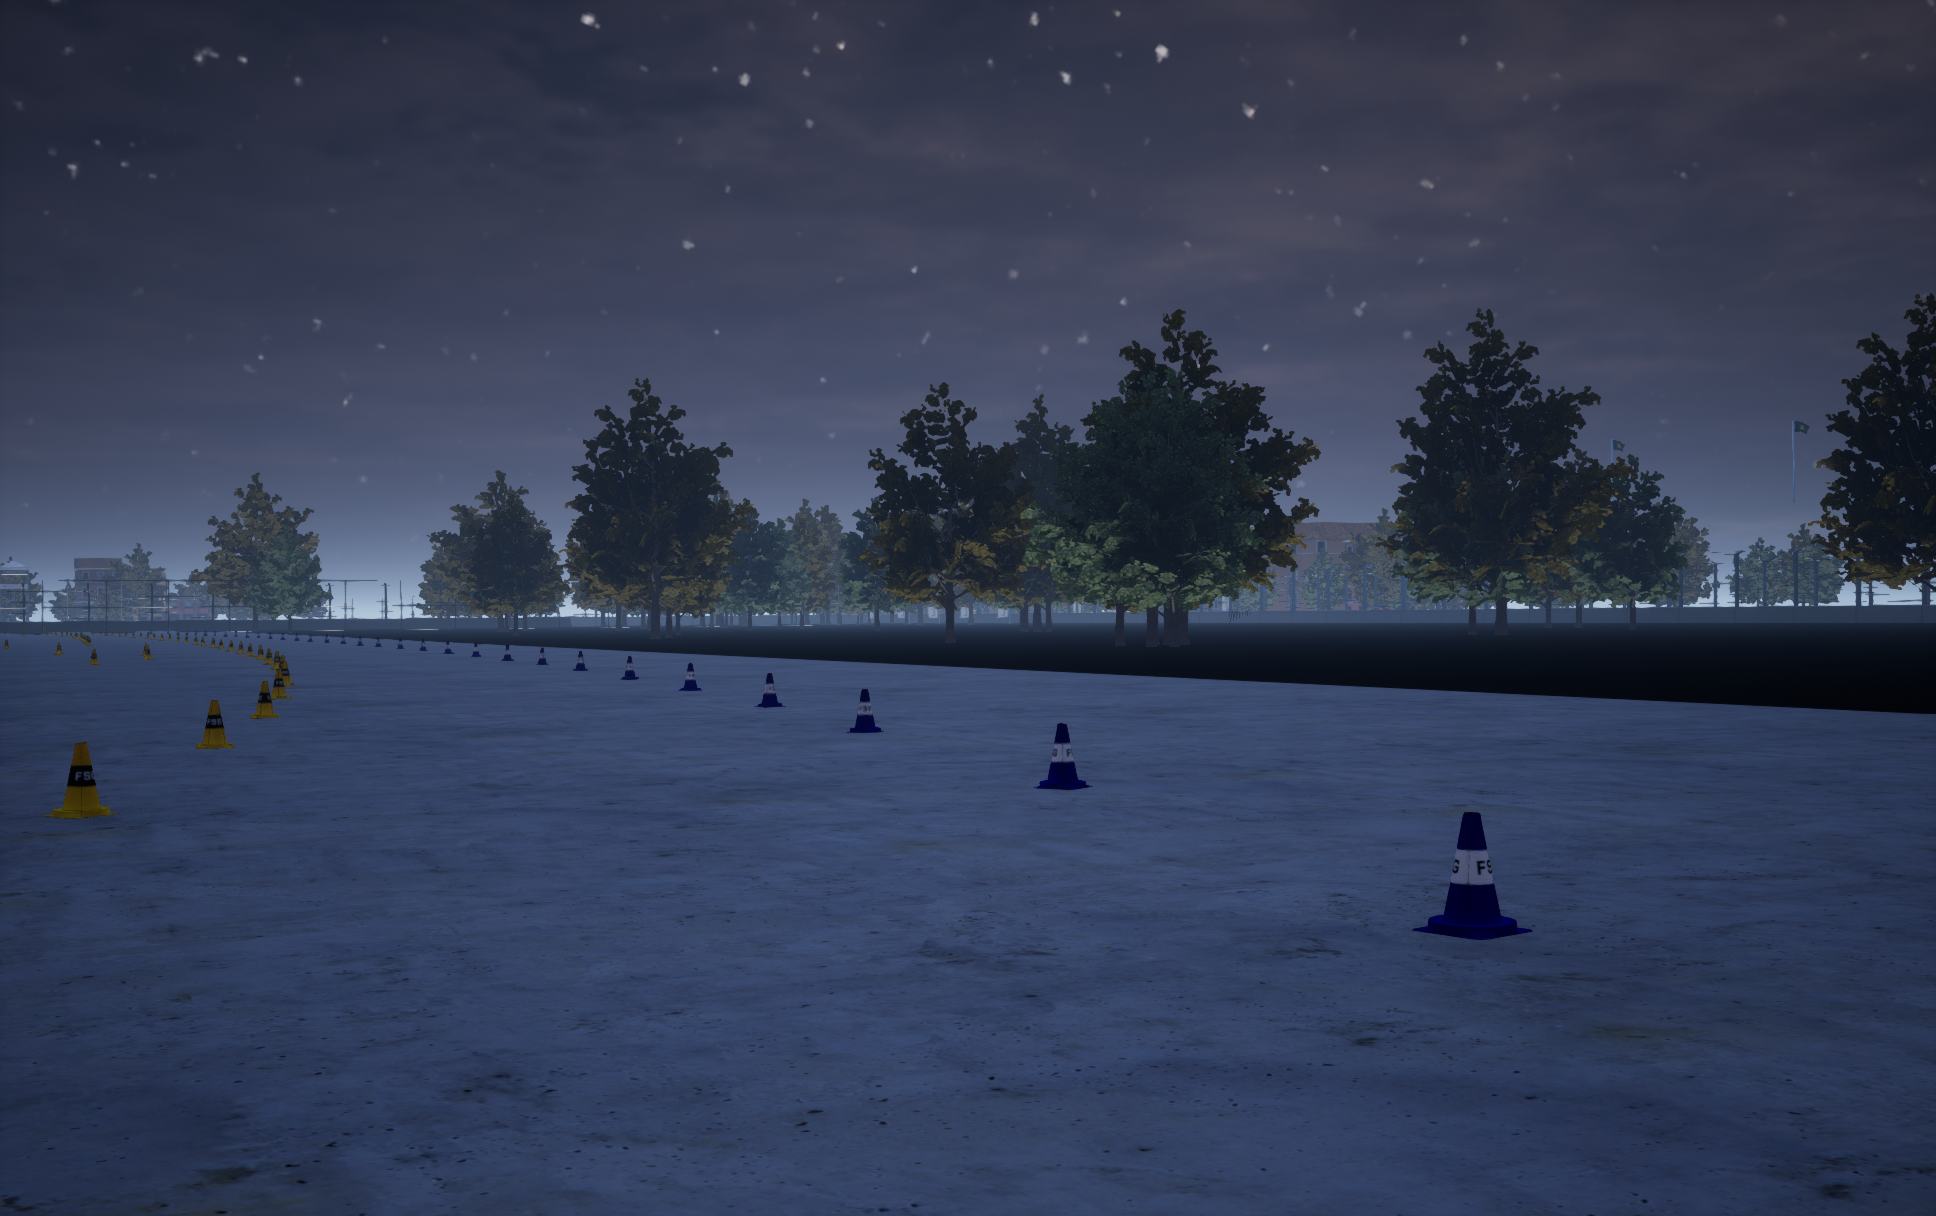blue: (43, 742, 118, 818), (195, 700, 234, 748), (249, 681, 277, 719), (270, 670, 290, 699), (282, 661, 296, 685), (275, 656, 290, 677)
yellow: (1412, 813, 1533, 939), (1032, 723, 1093, 789), (846, 689, 883, 733), (754, 672, 784, 707), (678, 663, 702, 691), (621, 656, 637, 679), (573, 651, 587, 670)
